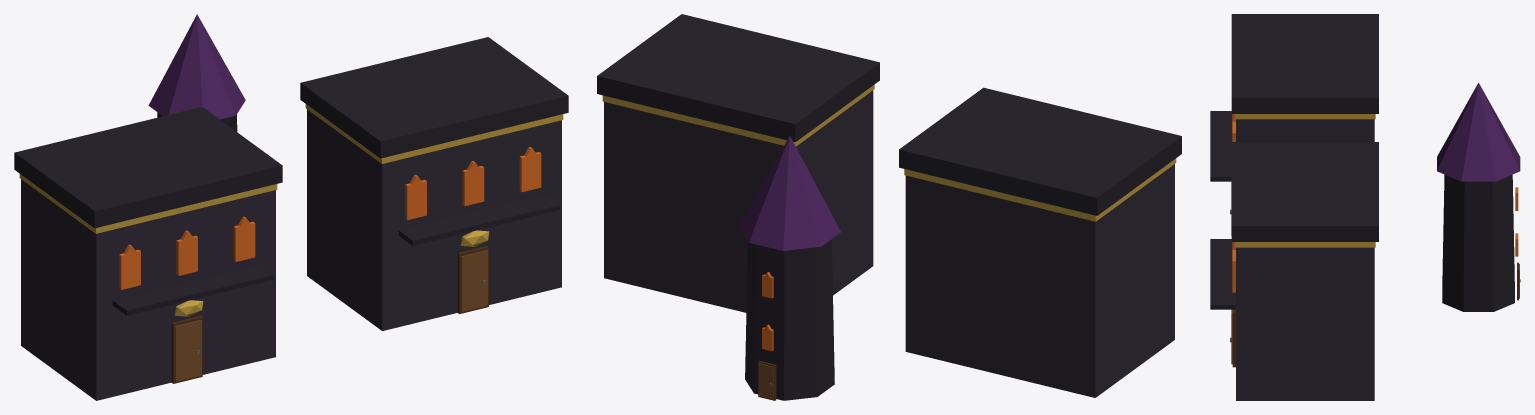
File: demon_row_broken.glb
The picture shows the model from 3 angles, left to right: view 1: azimuth 30°, elevation 25°; view 2: azimuth 150°, elevation 25°; view 3: azimuth 270°, elevation 25°; orthographic projection. The views are drawn at different scales.
Parts seen in each view (by area): view 1: demon_row_piece5, demon_row_piece4, demon_row_piece2, demon_row_piece7, demon_row_piece11, demon_row_piece1, demon_row_piece6, demon_row_piece8, demon_row_piece0, demon_row_piece12, demon_row_piece9; view 2: demon_row_piece5, demon_row_piece9, demon_row_piece11, demon_row_piece6, demon_row_piece1, demon_row_piece0, demon_row_piece2, demon_row_piece12, demon_row_piece3, demon_row_piece4, demon_row_piece10, demon_row_piece8 (+2 smaller); view 3: demon_row_piece9, demon_row_piece4, demon_row_piece5, demon_row_piece11, demon_row_piece3, demon_row_piece6, demon_row_piece1, demon_row_piece2, demon_row_piece8, demon_row_piece10, demon_row_piece12, demon_row_piece7 (+1 smaller).
Boxes of the visible parts, x1=… form: demon_row_piece5: x1=21, y1=119, x2=270, y2=400; demon_row_piece4: x1=307, y1=88, x2=568, y2=311; demon_row_piece2: x1=257, y1=119, x2=506, y2=330; demon_row_piece7: x1=157, y1=194, x2=275, y2=385; demon_row_piece11: x1=320, y1=51, x2=557, y2=159; demon_row_piece1: x1=48, y1=86, x2=235, y2=228; demon_row_piece6: x1=112, y1=14, x2=236, y2=134; demon_row_piece8: x1=223, y1=73, x2=338, y2=228; demon_row_piece0: x1=14, y1=143, x2=52, y2=292; demon_row_piece12: x1=34, y1=129, x2=122, y2=217; demon_row_piece9: x1=431, y1=37, x2=530, y2=68; demon_row_piece5: x1=905, y1=90, x2=1181, y2=397; demon_row_piece9: x1=597, y1=42, x2=727, y2=296; demon_row_piece11: x1=643, y1=22, x2=843, y2=168; demon_row_piece6: x1=739, y1=136, x2=1000, y2=333; demon_row_piece1: x1=899, y1=136, x2=1151, y2=278; demon_row_piece0: x1=1012, y1=182, x2=1126, y2=342; demon_row_piece2: x1=798, y1=42, x2=994, y2=289; demon_row_piece12: x1=984, y1=165, x2=1136, y2=266; demon_row_piece3: x1=745, y1=256, x2=927, y2=400; demon_row_piece4: x1=671, y1=14, x2=847, y2=295; demon_row_piece10: x1=682, y1=173, x2=753, y2=312; demon_row_piece8: x1=725, y1=109, x2=826, y2=243; demon_row_piece9: x1=1264, y1=200, x2=1378, y2=400; demon_row_piece4: x1=1210, y1=142, x2=1334, y2=400; demon_row_piece5: x1=1210, y1=14, x2=1374, y2=155; demon_row_piece11: x1=1250, y1=142, x2=1378, y2=249; demon_row_piece3: x1=1265, y1=131, x2=1520, y2=311; demon_row_piece6: x1=1364, y1=57, x2=1520, y2=222; demon_row_piece1: x1=1284, y1=14, x2=1460, y2=192; demon_row_piece2: x1=1210, y1=93, x2=1294, y2=280; demon_row_piece8: x1=1343, y1=142, x2=1497, y2=225; demon_row_piece10: x1=1446, y1=189, x2=1507, y2=256; demon_row_piece12: x1=1310, y1=14, x2=1378, y2=58; demon_row_piece7: x1=1210, y1=122, x2=1235, y2=235.
Size of the model in its own units: 5.8 by 2.73 by 3.59.
